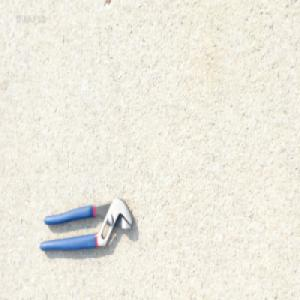Pliers: (39, 196, 135, 255)
